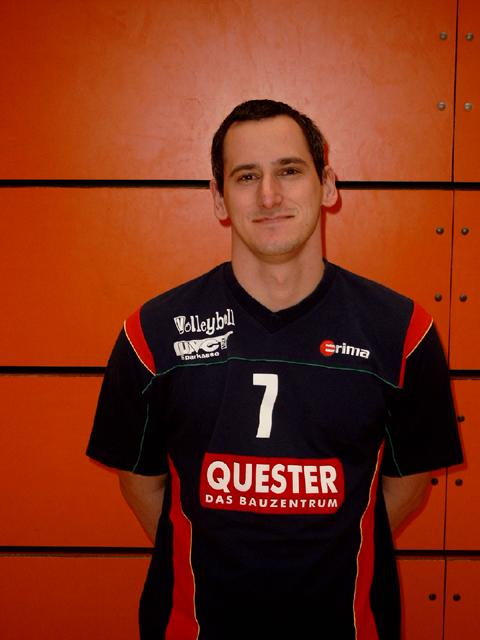Person: (84, 99, 464, 640)
